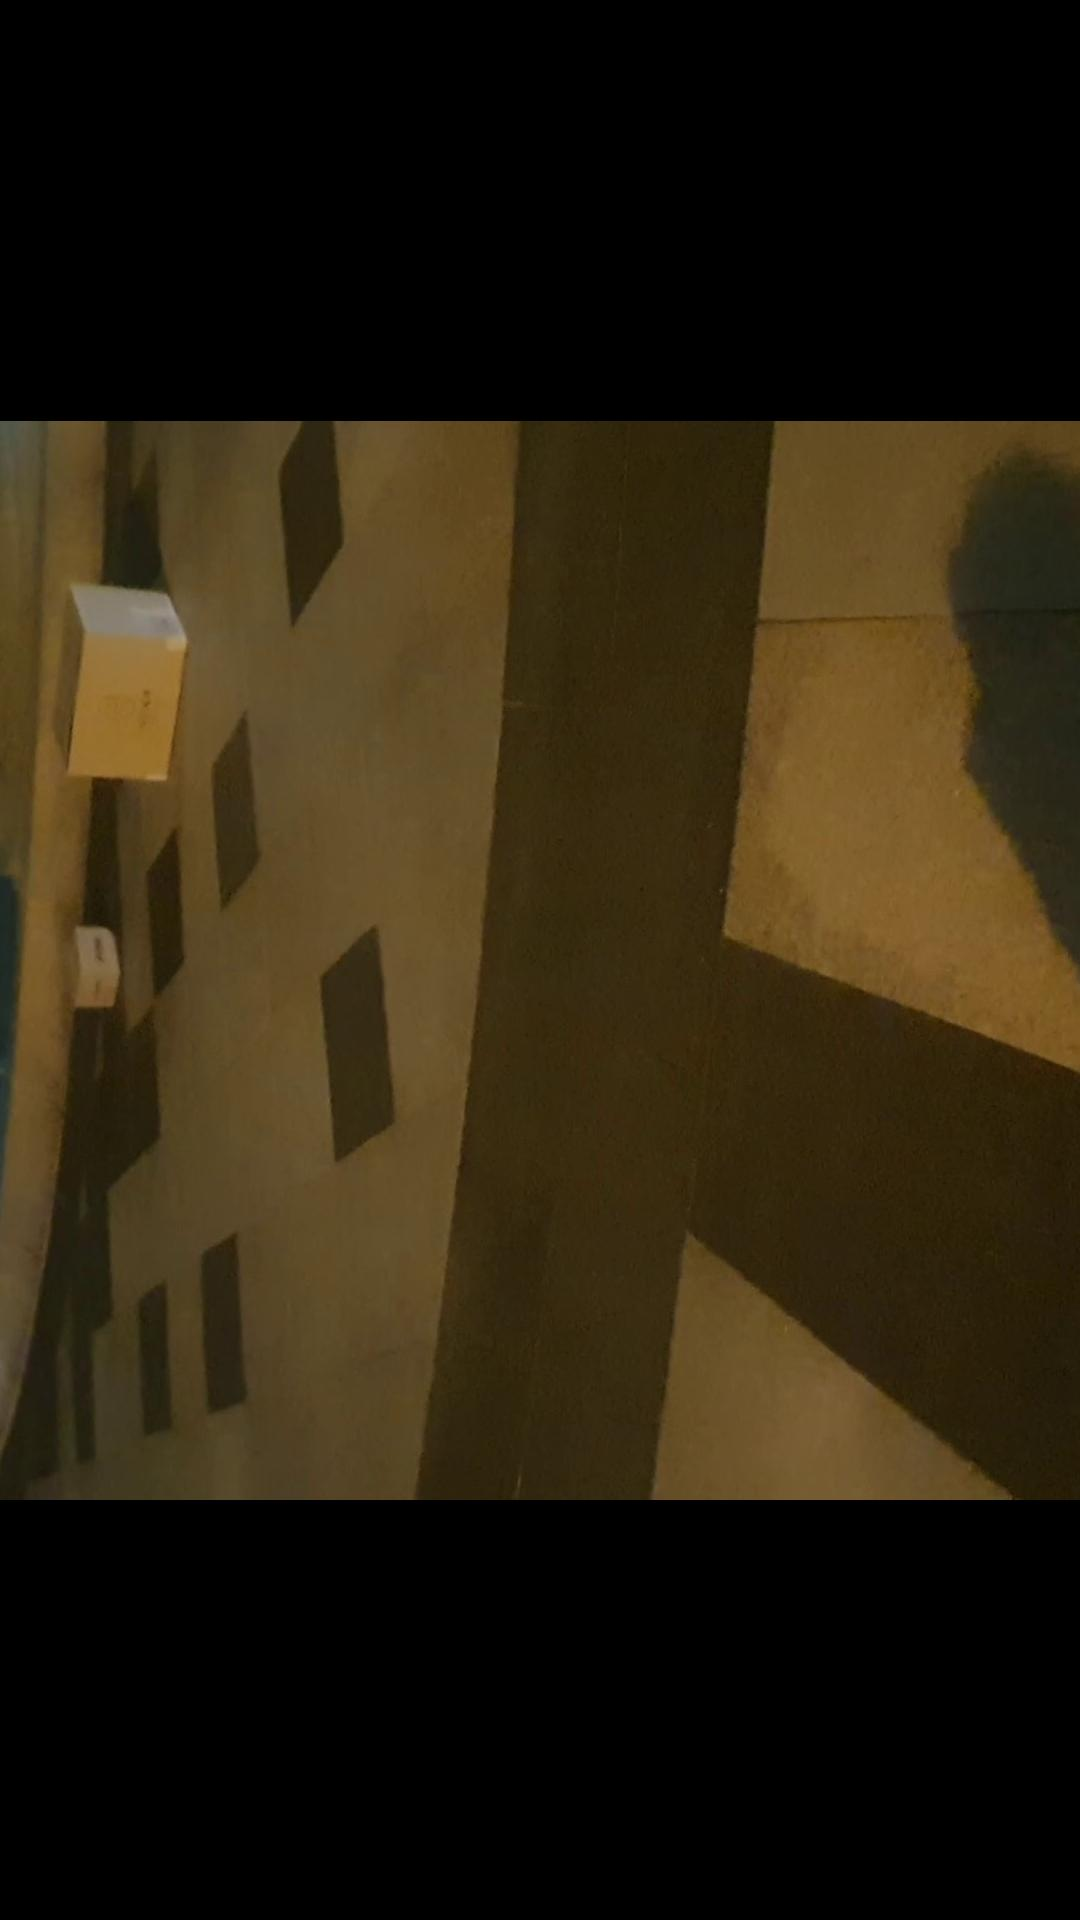Box: (28, 566, 198, 787), (63, 915, 131, 1014)
